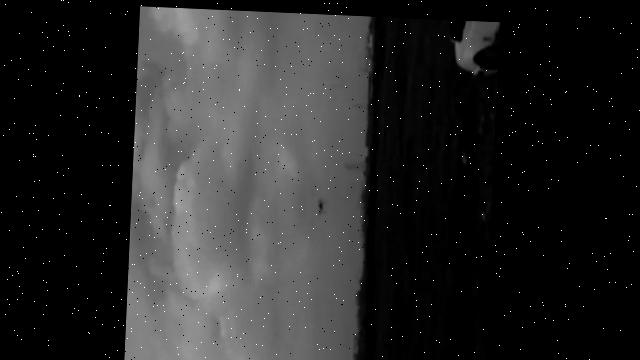drone: (314, 192, 328, 215)
